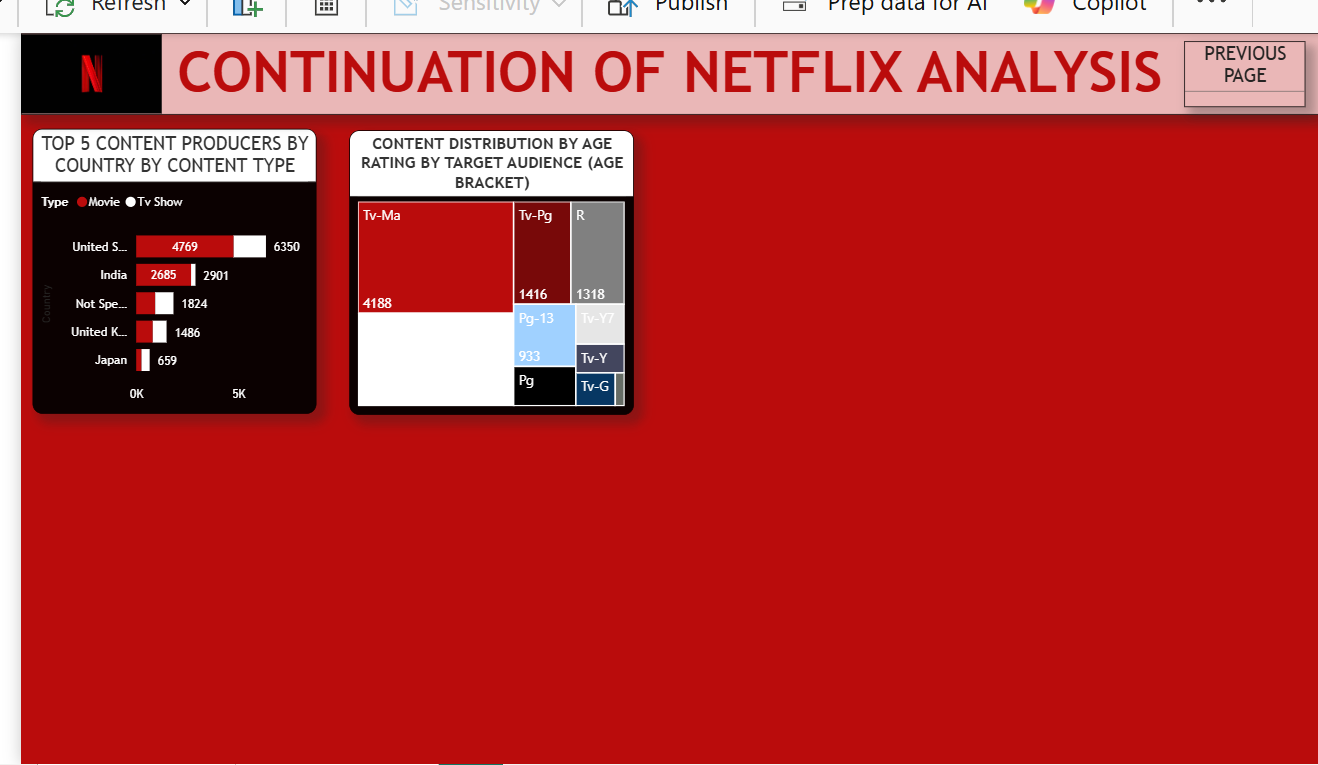

This screenshot's page, from the dashboard's own definition file:
{"tool":"powerbi","page":{"name":"DASHBOARD 2","canvas":[1280,720],"ordinal":1},"visuals":[{"type":"barChart","title":"TOP 5 CONTENT PRODUCERS BY COUNTRY BY CONTENT TYPE","fields":{"Category":["netflix_titles (2).Country"],"Y":["netflix_titles (2).Total Titles"],"Series":["netflix_titles (2).Type"]},"box":[11.4,94.4,279.9,281.5],"z":0},{"type":"textbox","box":[0,0,1280.3,80.7],"z":1000},{"type":"image","box":[0,0,138.6,80.7],"z":2000},{"type":"treemap","title":"CONTENT DISTRIBUTION BY AGE RATING BY TARGET AUDIENCE (AGE BRACKET)","fields":{"Group":["netflix_titles (2).Rating"],"Values":["netflix_titles (2).Total Titles"]},"box":[324.5,96.5,280.6,280.6],"z":3000},{"type":"actionButton","title":"PREVIOUS PAGE","box":[1147,8.8,119.3,64.9],"z":4000}]}

Visuals, with their boxes in screenshot pixels (x1, y1, x2, y2):
"TOP 5 CONTENT PRODUCERS BY COUNTRY BY CONTENT TYPE" barChart: bbox=(22, 123, 306, 409)
textbox: bbox=(10, 27, 1310, 109)
image: bbox=(10, 27, 151, 109)
"CONTENT DISTRIBUTION BY AGE RATING BY TARGET AUDIENCE (AGE BRACKET)" treemap: bbox=(340, 125, 625, 410)
"PREVIOUS PAGE" actionButton: bbox=(1175, 36, 1296, 102)
